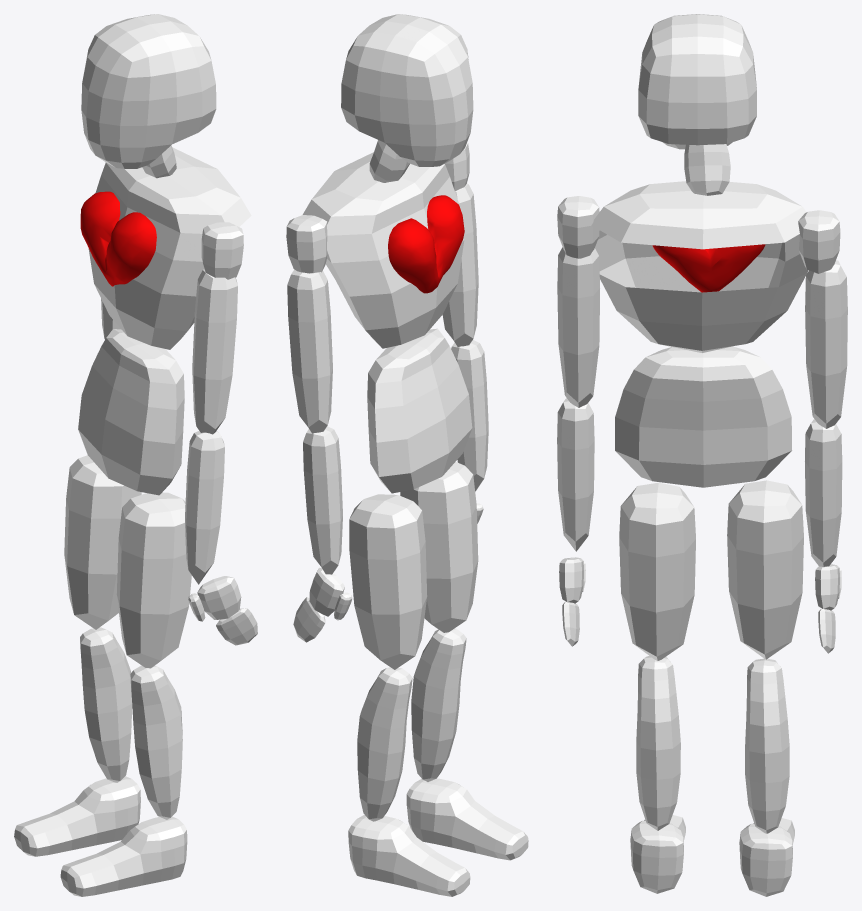
The model's file is Aidant.fbx.
The picture shows the model from 3 angles, left to right: view 1: azimuth 30°, elevation 25°; view 2: azimuth 150°, elevation 25°; view 3: azimuth 270°, elevation 25°; orthographic projection. The views are drawn at different scales.
Parts seen in each view (by area): view 1: Cube.010; view 2: Cube.010; view 3: Cube.010.
Boxes of the visible parts, x1,y1,x2,y2 form: Cube.010: (14,14,257,896); Cube.010: (286,14,528,896); Cube.010: (557,14,847,896).
Bounding box in the file's own units: 141 × 639 × 194.
